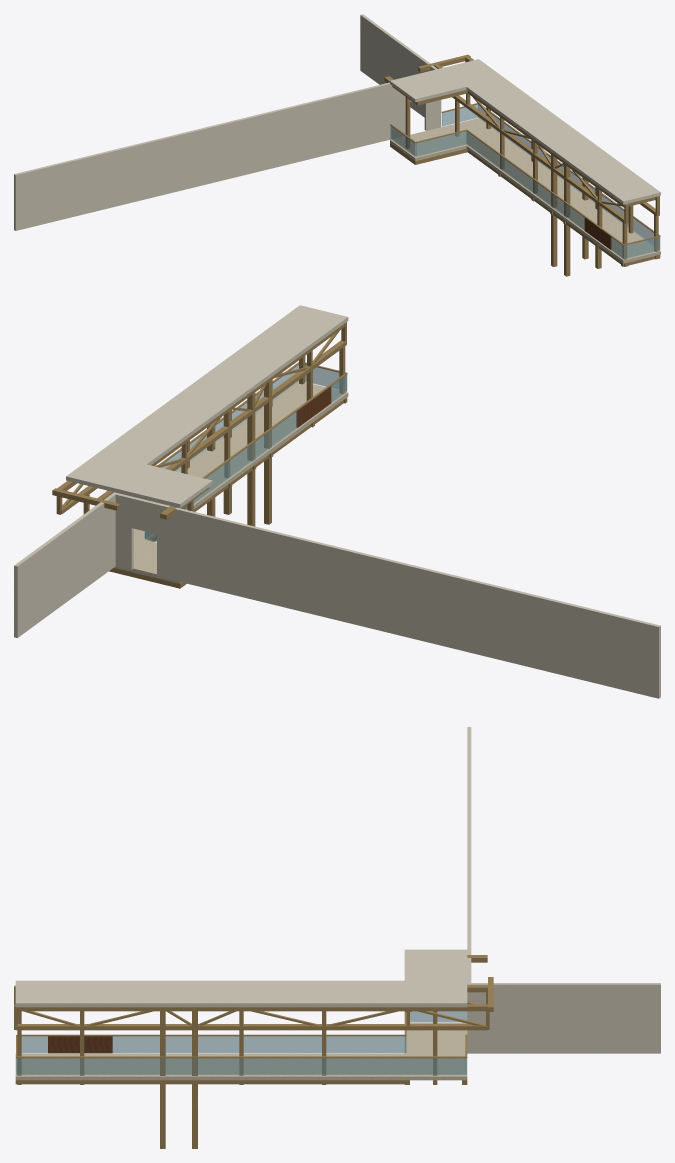
File: STAR_ATLAS_D17_RECEIVING_FIRST_r001.glb
3 renders of one model, top to bottom at view 1: azimuth 30°, elevation 25°; view 2: azimuth 150°, elevation 25°; view 3: azimuth 270°, elevation 25°, orthographic. The views are drawn at different scales.
Visible parts, largest first — view 1: D17R_SouthWallReceived, D17R_ReceivedRoof, D17R_ReceivedFloor, D17R_EastWallReceived, D17R_GuardInnerFore, D17R_TrussLower_0, D17R_GuardOuter, D17R_GuardVestSouth, D17R_D16Pier_01, D17R_D16Pier_00, D17R_TrussUpper_0, D17R_GuardEnd (+3 smaller); view 2: D17R_SouthWallReceived, D17R_ReceivedRoof, D17R_EastWallReceived, D17R_ReceivedFloor, D17R_GuardInnerFore, D17R_TrussLower_0, D17R_D16Pier_00, D17R_D16Pier_01, D17R_TrussUpper_0, D17R_GuardOuter, D17R_HeldRoom823; view 3: D17R_ReceivedRoof, D17R_EastWallReceived, D17R_ReceivedFloor, D17R_GuardOuter, D17R_GuardInnerFore, D17R_TrussLower_1, D17R_TrussUpper_1, D17R_FloorLong_1, D17R_SouthWallReceived, D17R_GuardOuter_Cap, D17R_HeldRoom823, D17R_GuardInnerFore_Cap (+2 smaller).
Part boxes in pixels (x1,y1,x2,y2): D17R_SouthWallReceived: [14, 82, 441, 230]; D17R_ReceivedRoof: [390, 59, 660, 204]; D17R_ReceivedFloor: [390, 118, 660, 263]; D17R_EastWallReceived: [360, 14, 441, 127]; D17R_GuardInnerFore: [466, 131, 584, 230]; D17R_TrussLower_0: [452, 95, 624, 223]; D17R_GuardOuter: [478, 104, 660, 249]; D17R_GuardVestSouth: [416, 131, 466, 156]; D17R_D16Pier_01: [564, 164, 570, 276]; D17R_D16Pier_00: [551, 154, 557, 266]; D17R_TrussUpper_0: [434, 64, 624, 207]; D17R_GuardEnd: [623, 237, 659, 258]; D17R_SouthWallReceived: [112, 492, 660, 698]; D17R_ReceivedRoof: [66, 305, 348, 507]; D17R_EastWallReceived: [14, 493, 115, 637]; D17R_ReceivedFloor: [114, 382, 348, 583]; D17R_GuardInnerFore: [144, 411, 297, 538]; D17R_TrussLower_0: [166, 340, 346, 470]; D17R_D16Pier_00: [247, 392, 255, 526]; D17R_D16Pier_01: [264, 380, 271, 524]; D17R_TrussUpper_0: [97, 322, 346, 499]; D17R_GuardOuter: [161, 365, 298, 471]; D17R_HeldRoom823: [296, 386, 331, 427]; D17R_ReceivedRoof: [15, 949, 467, 1007]; D17R_EastWallReceived: [467, 983, 660, 1053]; D17R_ReceivedFloor: [15, 1022, 467, 1080]; D17R_GuardOuter: [17, 1058, 466, 1074]; D17R_GuardInnerFore: [112, 1036, 405, 1053]; D17R_TrussLower_1: [15, 1024, 487, 1030]; D17R_TrussUpper_1: [15, 1004, 487, 1011]; D17R_FloorLong_1: [15, 1080, 404, 1084]; D17R_SouthWallReceived: [467, 727, 471, 1053]; D17R_GuardOuter_Cap: [16, 1056, 466, 1058]; D17R_HeldRoom823: [48, 1036, 112, 1053]; D17R_GuardInnerFore_Cap: [112, 1034, 405, 1036].
Bounding box in the file's own units: 37 × 9 × 36.1.
5 materials, 4 textured.
